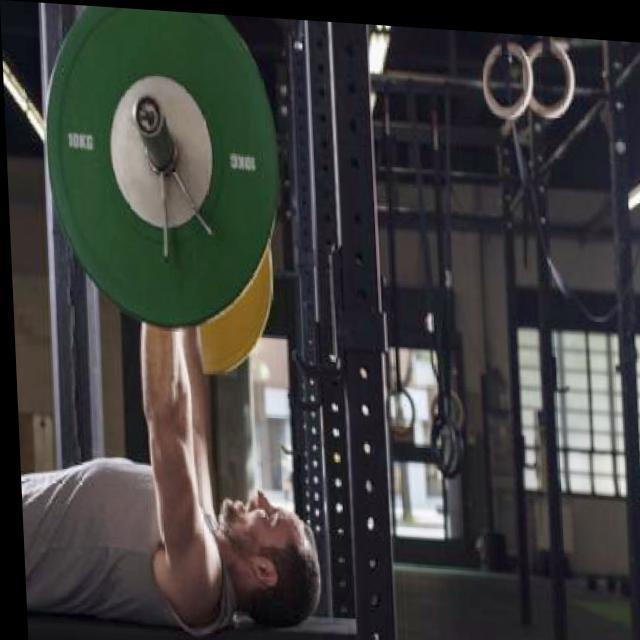barbell: (37, 3, 291, 339)
